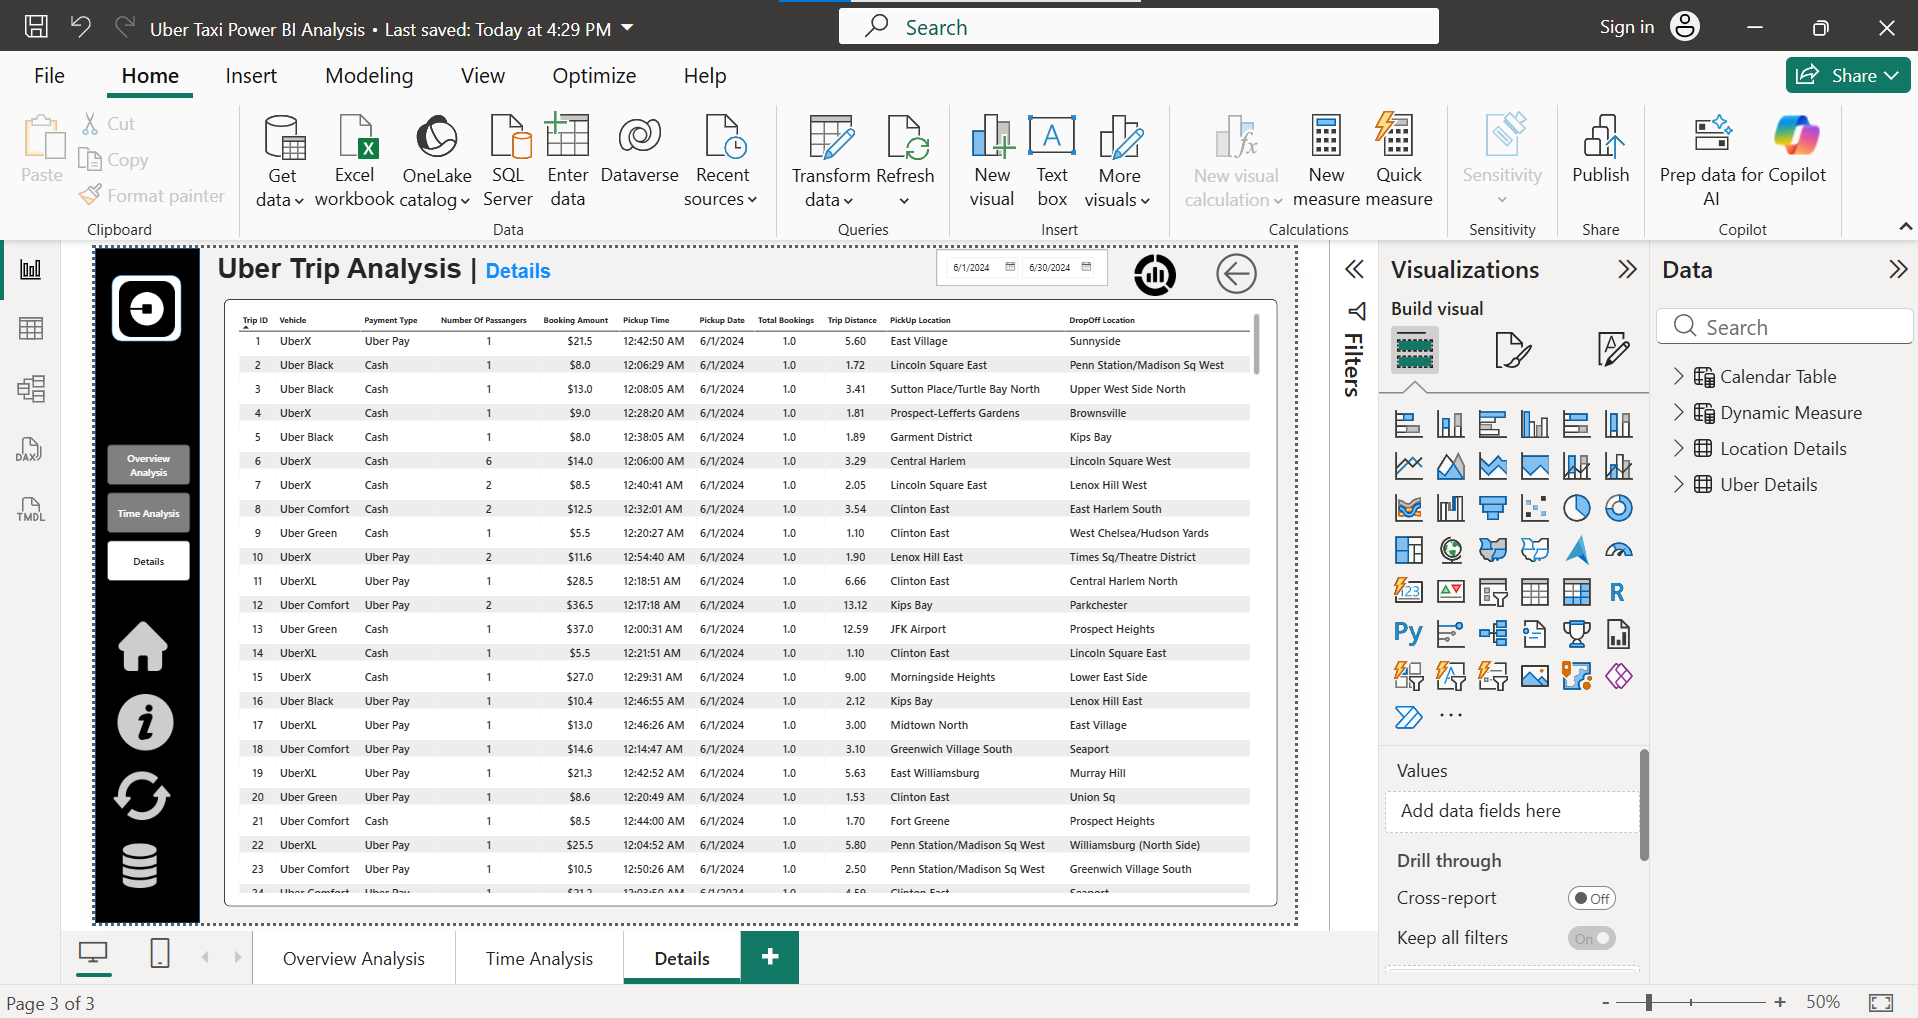

The page's visual inventory and layout, read from the dashboard file:
{"tool":"powerbi","page":{"name":"Details","canvas":[1600,900],"ordinal":2},"visuals":[{"type":"shape","box":[0,0,140,900.3],"z":0},{"type":"textbox","box":[159,0,767.3,68.8],"z":1000},{"type":"shape","box":[171.2,68.8,1404.7,810.1],"z":2000},{"type":"tableEx","fields":{"Values":["Uber Details.Trip ID","Uber Details.Vehicle","Uber Details.Payment_type","Sum(Uber Details.passenger_count)","Uber Details.Total Booking Amount","Uber Details.Pickup Time (HH MM SS)","Uber Details.Pickup date","Uber Details.Total Bookings","Uber Details.Total Trip Distance Measurment","Location Details.Location","Uber Details.Drop Off location Details"]},"box":[186.9,81.5,1372.6,782.6],"z":3000},{"type":"actionButton","box":[1488.3,0,71.7,68.3],"z":4000},{"type":"image","box":[1386.7,1.7,55,68.3],"z":5000},{"type":"pageNavigator","box":[15.3,261.4,111.6,185],"z":6000},{"type":"group","id":"g1","title":"Group 1","box":[22.9,35.2,93.2,88.7],"z":7000},{"type":"image","box":[22.9,498.3,84.1,65.7],"z":8000},{"type":"image","box":[29,588.5,74.9,88.7],"z":9000},{"type":"image","box":[15.3,692.4,93.2,76.4],"z":10000},{"type":"image","box":[16.8,794.8,87.1,59.6],"z":11000},{"type":"shape","box":[22.9,35.2,93.2,88.7],"z":33000,"group":"g1"},{"type":"image","box":[32.1,42.8,74.9,74.9],"z":34000,"group":"g1"},{"type":"slicer","fields":{"Values":["Calendar Table.Date"]},"box":[1121.7,1.7,228.3,48.3],"z":34001}]}

Visuals, with their boxes on the page's 1600x900 design canvas (x1, y1, x2, y2). These are canvas units, not pixel positions in the 1918x1018 screenshot, which may show the page scaled, cropped or inside an application window:
shape: rect(0, 0, 140, 900)
textbox: rect(159, 0, 926, 69)
shape: rect(171, 69, 1576, 879)
tableEx - Uber Details.Trip ID x Uber Details.Vehicle: rect(187, 82, 1560, 864)
actionButton: rect(1488, 0, 1560, 68)
image: rect(1387, 2, 1442, 70)
pageNavigator: rect(15, 261, 127, 446)
"Group 1" group: rect(23, 35, 116, 124)
image: rect(23, 498, 107, 564)
image: rect(29, 588, 104, 677)
image: rect(15, 692, 108, 769)
image: rect(17, 795, 104, 854)
shape: rect(23, 35, 116, 124)
image: rect(32, 43, 107, 118)
slicer - Calendar Table.Date: rect(1122, 2, 1350, 50)
